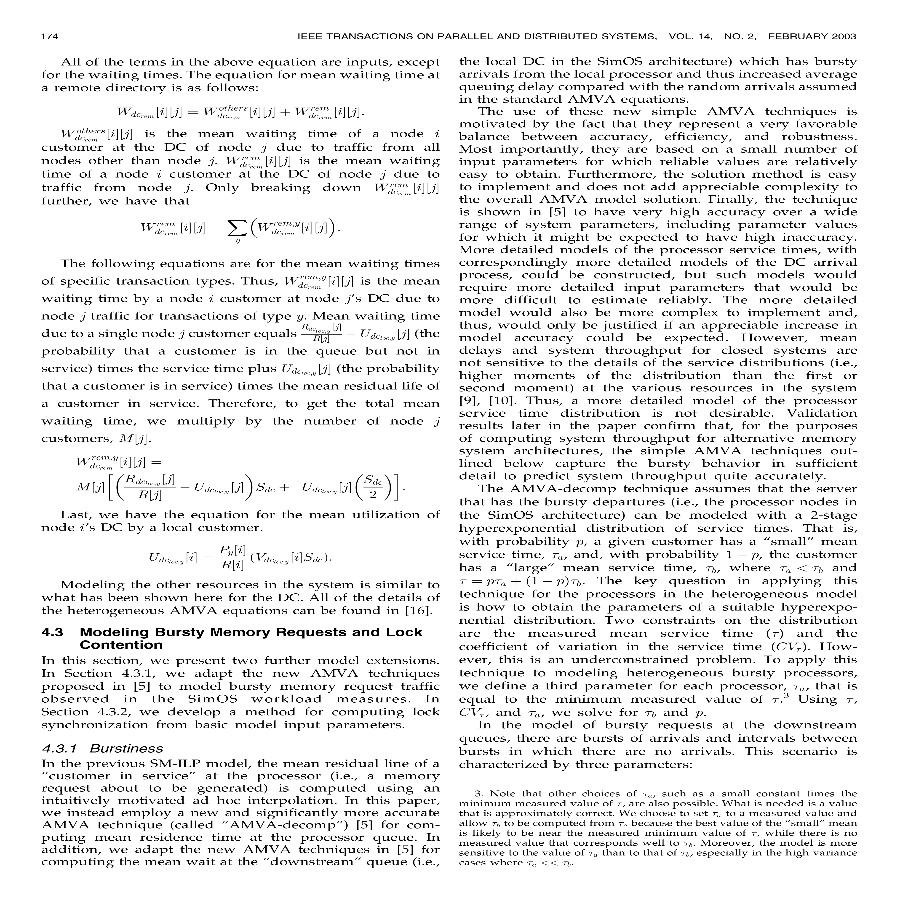eq: (76, 450, 400, 508), (147, 541, 329, 572), (109, 101, 362, 123), (139, 218, 337, 243)
